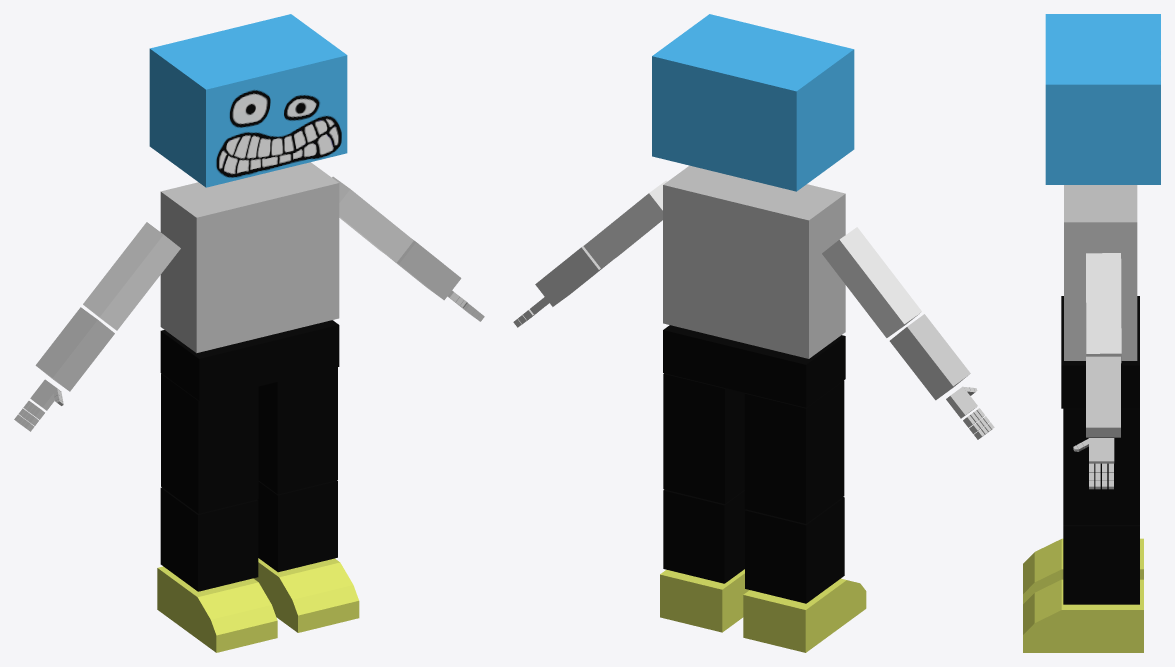
The model's file is PolyBot_OfficeWorker.fbx.
3 renders of one model, left to right at view 1: azimuth 30°, elevation 25°; view 2: azimuth 150°, elevation 25°; view 3: azimuth 270°, elevation 25°, orthographic. The views are drawn at different scales.
Visible parts, largest first — view 1: Cube.008, Cube.003, Cube.051, Cube.048, Cube.011, Cube.050, Cube.049, Cube.047, Cube.002, Cube.032, Cube.030, Cube.013 (+1 smaller); view 2: Cube.008, Cube.003, Cube.051, Cube.048, Cube.011, Cube.050, Cube.047, Cube.049, Cube.032, Cube.002, Cube.030, Cube.013 (+1 smaller); view 3: Cube.003, Cube.008, Cube.048, Cube.002, Cube.047, Cube.013, Cube.001, Cube.011, Cube.049, Cube.012.
Part boxes in pixels (x1,y1,x2,y2): Cube.008: (160,162,339,353); Cube.003: (149,14,347,187); Cube.051: (161,373,258,513); Cube.048: (258,367,337,494); Cube.011: (160,320,339,400); Cube.050: (160,487,258,591); Cube.049: (157,566,277,652); Cube.047: (257,480,337,572); Cube.002: (253,558,359,632); Cube.032: (83,222,180,330); Cube.030: (35,307,114,391); Cube.013: (332,176,413,262); Cube.008: (663,165,845,358); Cube.003: (652,14,854,191); Cube.051: (744,380,844,523); Cube.048: (663,373,744,503); Cube.011: (663,325,845,407); Cube.050: (745,497,844,603); Cube.047: (663,489,745,583); Cube.049: (743,578,866,652); Cube.032: (822,227,921,337); Cube.002: (660,569,749,632); Cube.030: (889,314,970,400); Cube.013: (583,180,667,268); Cube.003: (1045,14,1160,184); Cube.008: (1064,185,1137,360); Cube.048: (1063,408,1139,524); Cube.002: (1023,579,1143,652); Cube.047: (1063,525,1139,604); Cube.013: (1086,253,1121,363); Cube.001: (1086,356,1120,437); Cube.011: (1061,296,1139,408); Cube.049: (1023,538,1143,603); Cube.012: (1089,438,1114,463).
Bounding box in the file's own units: 141 × 163 × 35.92.
